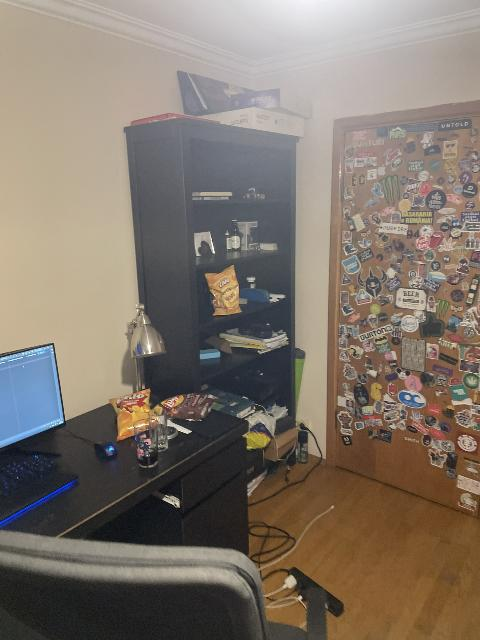Chio Cascaval 125g: (108, 388, 156, 441)
Chio Hula Hoops Cheese 70g: (204, 263, 243, 315), (157, 392, 218, 421)
